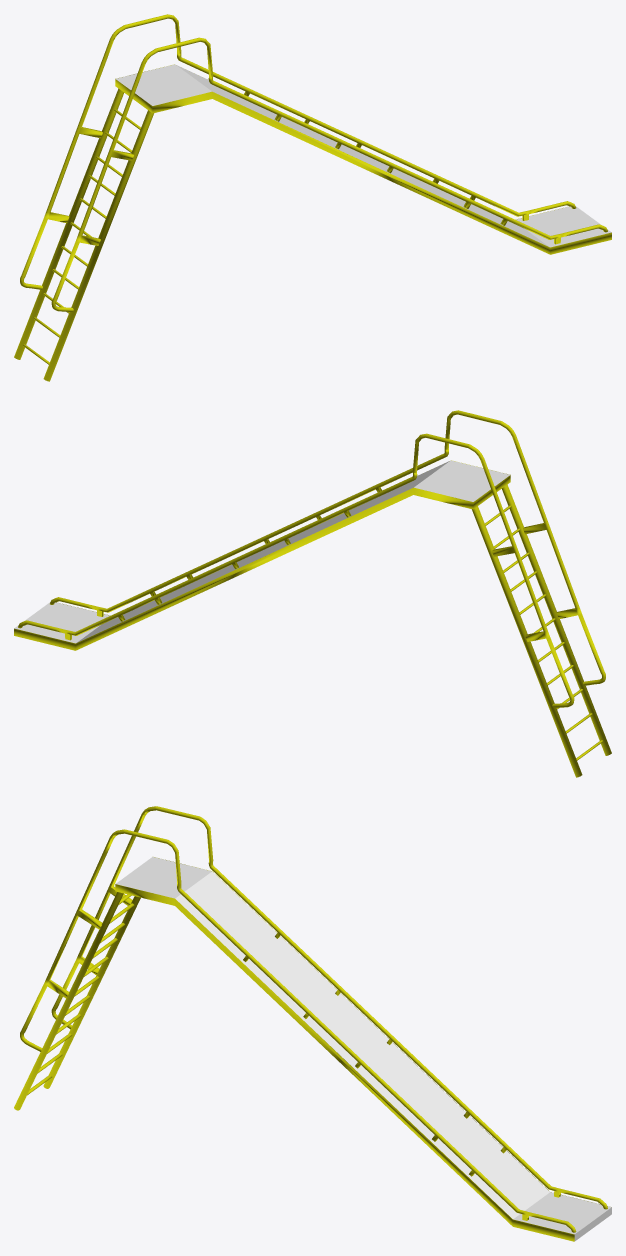
File: Slide.fbx
The picture shows the model from 3 angles, top to bottom: view 1: azimuth 30°, elevation 25°; view 2: azimuth 150°, elevation 25°; view 3: azimuth 330°, elevation 25°; orthographic projection.
Visible parts, largest first — view 1: SLIDE, SLIDE_BACK; view 2: SLIDE, SLIDE_BACK; view 3: SLIDE, SLIDE_BACK.
Part boxes in pixels (x1,y1,x2,y2): SLIDE: (115, 14, 611, 254); SLIDE_BACK: (14, 25, 157, 381); SLIDE: (14, 410, 510, 650); SLIDE_BACK: (468, 421, 611, 777); SLIDE: (115, 806, 611, 1241); SLIDE_BACK: (14, 806, 155, 1110).
Size of the model in its own units: 960 by 500 by 111.
